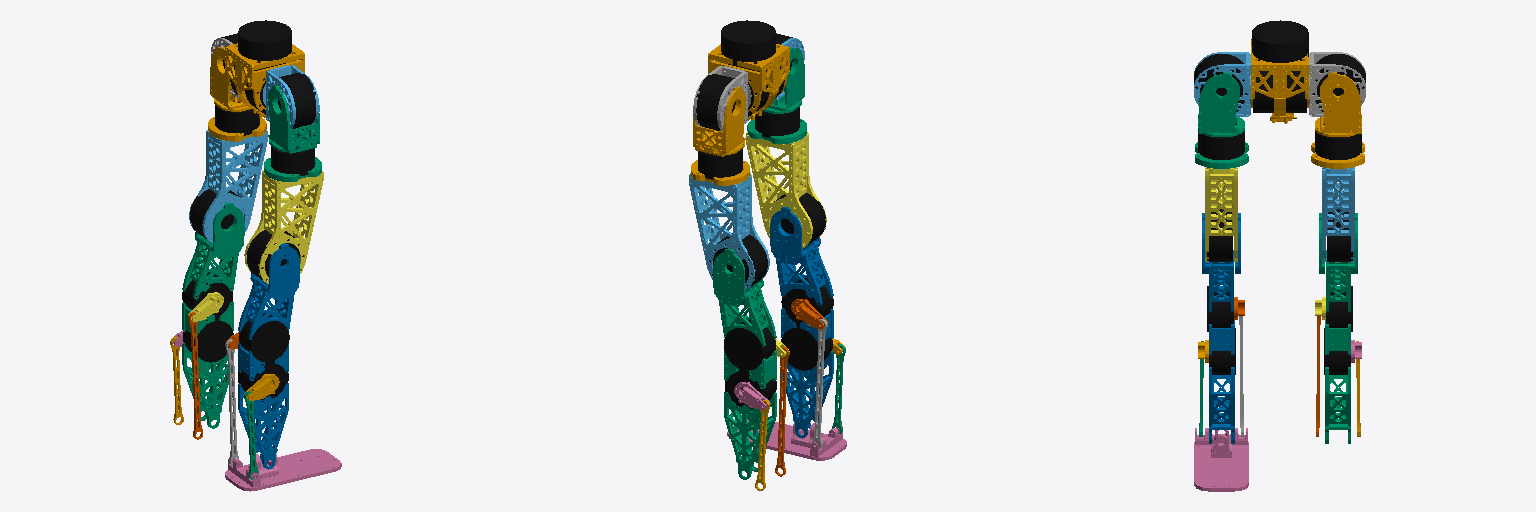
robot.urdf — LegOnly_prototype-tempmass-motormeasured-armfix_v30_proxyfix_loo:
<?xml version='1.0' encoding='utf-8'?>
<robot name="LegOnly_prototype-tempmass-motormeasured-armfix_v30_proxyfix_loop">
  <link name="base_link">
    <visual>
      <geometry>
        <mesh filename="package://huphy_ros/meshes/pelvis.stl" />
      </geometry>
    </visual>
    <visual name="R_hip_pitch_motor">
      <origin xyz="0.00065 -0.02962 -0.00044" rpy="-1.5708 0 0" />
      <geometry>
        <cylinder radius="0.06" length="0.0556" />
      </geometry>
      <material name="motor_black">
        <color rgba="0.1 0.1 0.1 1" />
      </material>
    </visual>
    <visual name="waist_yaw_motor">
      <origin xyz="0.00053 0.00058 0.09393" rpy="0 0 0" />
      <geometry>
        <cylinder radius="0.06" length="0.0556" />
      </geometry>
      <material name="motor_black">
        <color rgba="0.1 0.1 0.1 1" />
      </material>
    </visual>
    <visual name="L_hip_pitch_motor">
      <origin xyz="0.00065 0.02962 -0.00044" rpy="1.5708 0 0" />
      <geometry>
        <cylinder radius="0.06" length="0.0556" />
      </geometry>
      <material name="motor_black">
        <color rgba="0.1 0.1 0.1 1" />
      </material>
    </visual>
  </link>
  <link name="R_hip_pitch_link">
    <inertial>
      <origin xyz="0.00154376 0.00538733 0.000525268" rpy="0 0 0" />
      <mass value="1.8417" />
      <inertia ixx="0.00411465" ixy="9.91708e-06" ixz="6.31569e-06" iyy="0.00262779" iyz="7.62039e-06" izz="0.00285458" />
    </inertial>
    <visual>
      <geometry>
        <mesh filename="package://huphy_ros/meshes/hip_pitch_link.stl" />
      </geometry>
    </visual>
    <visual name="R_hip_roll_motor">
      <origin xyz="0.00317 0.00061 0.00049" rpy="3.14159 -1.5708 3.14159" />
      <geometry>
        <cylinder radius="0.06" length="0.0556" />
      </geometry>
      <material name="motor_black">
        <color rgba="0.1 0.1 0.1 1" />
      </material>
    </visual>
  </link>
  <link name="R_hip_roll_link">
    <inertial>
      <origin xyz="0.000912268 -0.00135613 -0.121662" rpy="0 0 0" />
      <mass value="1.373" />
      <inertia ixx="0.00340192" ixy="-2.6909e-06" ixz="-0.000151014" iyy="0.00347541" iyz="9.2076e-05" izz="0.002068" />
    </inertial>
    <visual>
      <geometry>
        <mesh filename="package://huphy_ros/meshes/hip_roll_link.stl" />
      </geometry>
    </visual>
    <visual name="R_hip_yaw_motor">
      <origin xyz="6e-05 3e-05 -0.13303" rpy="0 0 0" />
      <geometry>
        <cylinder radius="0.0495" length="0.0566" />
      </geometry>
      <material name="motor_black">
        <color rgba="0.1 0.1 0.1 1" />
      </material>
    </visual>
  </link>
  <link name="R_thigh_link">
    <inertial>
      <origin xyz="-0.0367184 -0.00147556 -0.339418" rpy="0 0 0" />
      <mass value="2.1176" />
      <inertia ixx="0.0114407" ixy="-8.34427e-06" ixz="-0.00210864" iyy="0.0135125" iyz="-7.39365e-05" izz="0.00382553" />
    </inertial>
    <visual>
      <geometry>
        <mesh filename="package://huphy_ros/meshes/thigh.stl" />
      </geometry>
    </visual>
    <visual name="R_knee_motor">
      <origin xyz="-0.04495 -0.00318 -0.36922" rpy="-1.5708 0 0" />
      <geometry>
        <cylinder radius="0.06" length="0.0556" />
      </geometry>
      <material name="motor_black">
        <color rgba="0.1 0.1 0.1 1" />
      </material>
    </visual>
  </link>
  <link name="R_shin_link">
    <inertial>
      <origin xyz="-0.0275899 -0.000127367 -0.232073" rpy="0 0 0" />
      <mass value="2.7018" />
      <inertia ixx="0.0211235" ixy="1.81622e-05" ixz="-0.00113853" iyy="0.0221923" iyz="0.000144791" izz="0.00343319" />
    </inertial>
    <visual>
      <geometry>
        <mesh filename="package://huphy_ros/meshes/shin_noloop.stl" />
      </geometry>
    </visual>
    <visual name="R_ankle_b_motor">
      <origin xyz="-0.02994 -0.00172 -0.19003" rpy="-1.5708 0 0" />
      <geometry>
        <cylinder radius="0.0495" length="0.0566" />
      </geometry>
      <material name="motor_black">
        <color rgba="0.1 0.1 0.1 1" />
      </material>
    </visual>
    <visual name="R_ankle_a_motor">
      <origin xyz="-0.03006 0.00172 -0.29003" rpy="-1.5708 0 0" />
      <geometry>
        <cylinder radius="0.0495" length="0.0566" />
      </geometry>
      <material name="motor_black">
        <color rgba="0.1 0.1 0.1 1" />
      </material>
    </visual>
  </link>
  <link name="R_ankle_pitch_link">
    <inertial>
      <origin xyz="0 1.42109e-17 0" rpy="0 0 0" />
      <mass value="0.040016" />
      <inertia ixx="1.43238e-05" ixy="-2.21684e-10" ixz="-1.31465e-09" iyy="3.69795e-06" iyz="-1.14375e-09" izz="1.42313e-05" />
    </inertial>
  </link>
  <link name="R_foot_link">
    <inertial>
      <origin xyz="0.0326641 4.26326e-17 -0.0312039" rpy="0 0 0" />
      <mass value="0.84518" />
      <inertia ixx="0.00109062" ixy="1.60551e-07" ixz="0.000280046" iyy="0.00456268" iyz="7.88778e-07" izz="0.00503462" />
    </inertial>
    <visual>
      <geometry>
        <mesh filename="package://huphy_ros/meshes/foot_noloop.stl" />
      </geometry>
    </visual>
  </link>
  <link name="L_hip_pitch_link">
    <inertial>
      <origin xyz="0.00154376 -0.00538733 0.000525268" rpy="0 0 0" />
      <mass value="1.8417" />
      <inertia ixx="0.00411465" ixy="-9.91708e-06" ixz="6.31569e-06" iyy="0.00262779" iyz="-7.62039e-06" izz="0.00285458" />
    </inertial>
    <visual>
      <geometry>
        <mesh filename="package://huphy_ros/meshes/R_hip_pitch_link.stl" />
      </geometry>
    </visual>
    <visual name="L_hip_roll_motor">
      <origin xyz="0.00317 -0.00061 0.00049" rpy="3.14159 -1.5708 3.14159" />
      <geometry>
        <cylinder radius="0.06" length="0.0556" />
      </geometry>
      <material name="motor_black">
        <color rgba="0.1 0.1 0.1 1" />
      </material>
    </visual>
  </link>
  <link name="L_hip_roll_link">
    <inertial>
      <origin xyz="0.000912268 0.00135613 -0.121662" rpy="0 0 0" />
      <mass value="1.373" />
      <inertia ixx="0.00340192" ixy="2.6909e-06" ixz="-0.000151014" iyy="0.00347541" iyz="-9.2076e-05" izz="0.002068" />
    </inertial>
    <visual>
      <geometry>
        <mesh filename="package://huphy_ros/meshes/R_hip_roll_link.stl" />
      </geometry>
    </visual>
    <visual name="L_hip_yaw_motor">
      <origin xyz="6e-05 -3e-05 -0.13303" rpy="0 0 0" />
      <geometry>
        <cylinder radius="0.0495" length="0.0566" />
      </geometry>
      <material name="motor_black">
        <color rgba="0.1 0.1 0.1 1" />
      </material>
    </visual>
  </link>
  <link name="L_thigh_link">
    <inertial>
      <origin xyz="-0.0367184 0.00147556 -0.339418" rpy="0 0 0" />
      <mass value="2.1176" />
      <inertia ixx="0.0114407" ixy="8.34427e-06" ixz="-0.00210864" iyy="0.0135125" iyz="7.39365e-05" izz="0.00382553" />
    </inertial>
    <visual>
      <geometry>
        <mesh filename="package://huphy_ros/meshes/R_thigh.stl" />
      </geometry>
    </visual>
    <visual name="L_knee_motor">
      <origin xyz="-0.04495 0.00318 -0.36922" rpy="1.5708 0 0" />
      <geometry>
        <cylinder radius="0.06" length="0.0556" />
      </geometry>
      <material name="motor_black">
        <color rgba="0.1 0.1 0.1 1" />
      </material>
    </visual>
  </link>
  <link name="L_shin_link">
    <inertial>
      <origin xyz="-0.0275899 0.000127367 -0.232073" rpy="0 0 0" />
      <mass value="2.7018" />
      <inertia ixx="0.0211235" ixy="-1.81622e-05" ixz="-0.00113853" iyy="0.0221923" iyz="-0.000144791" izz="0.00343319" />
    </inertial>
    <visual>
      <geometry>
        <mesh filename="package://huphy_ros/meshes/R_shin_noloop.stl" />
      </geometry>
    </visual>
    <visual name="L_ankle_b_motor">
      <origin xyz="-0.02994 0.00172 -0.19003" rpy="1.5708 0 0" />
      <geometry>
        <cylinder radius="0.0495" length="0.0566" />
      </geometry>
      <material name="motor_black">
        <color rgba="0.1 0.1 0.1 1" />
      </material>
    </visual>
    <visual name="L_ankle_a_motor">
      <origin xyz="-0.03006 -0.00172 -0.29003" rpy="1.5708 0 0" />
      <geometry>
        <cylinder radius="0.0495" length="0.0566" />
      </geometry>
      <material name="motor_black">
        <color rgba="0.1 0.1 0.1 1" />
      </material>
    </visual>
  </link>
  <link name="L_ankle_pitch_link">
    <inertial>
      <origin xyz="0 -1.42109e-17 0" rpy="0 0 0" />
      <mass value="0.040016" />
      <inertia ixx="1.43238e-05" ixy="2.21684e-10" ixz="-1.31465e-09" iyy="3.69795e-06" iyz="1.14375e-09" izz="1.42313e-05" />
    </inertial>
  </link>
  <link name="L_foot_link">
    <inertial>
      <origin xyz="0.0326641 -4.26326e-17 -0.0312039" rpy="0 0 0" />
      <mass value="0.84518" />
      <inertia ixx="0.00109062" ixy="-1.60551e-07" ixz="0.000280046" iyy="0.00456268" iyz="-7.88778e-07" izz="0.00503462" />
    </inertial>
    <visual>
      <geometry>
        <mesh filename="package://huphy_ros/meshes/R_foot_noloop.stl" />
      </geometry>
    </visual>
  </link>
  <joint name="right_leg__hip_pitch" type="revolute">
    <origin xyz="0 -0.1237 0" rpy="0 0 0" />
    <parent link="base_link" />
    <child link="R_hip_pitch_link" />
    <axis xyz="0 1 0" />
    <limit lower="-2.0943951023931953" upper="0.4363323129985824" effort="120" velocity="20" />
    <dynamics damping="0.0275" friction="0.519" />
  </joint>
  <joint name="right_leg__hip_roll" type="revolute">
    <origin xyz="0 0 0" rpy="0 0 0" />
    <parent link="R_hip_pitch_link" />
    <child link="R_hip_roll_link" />
    <axis xyz="-1 0 0" />
    <limit lower="-0.4363323129985824" upper="1.4835298641951802" effort="120" velocity="20" />
    <dynamics damping="0.0275" friction="0.519" />
  </joint>
  <joint name="right_leg__hip_yaw" type="revolute">
    <origin xyz="0 0 0" rpy="0 0 0" />
    <parent link="R_hip_roll_link" />
    <child link="R_thigh_link" />
    <axis xyz="0 0 1" />
    <limit lower="-0.7853981633974483" upper="0.7853981633974483" effort="60" velocity="20" />
    <dynamics damping="0.0252" friction="0.251" />
  </joint>
  <joint name="right_leg__knee" type="revolute">
    <origin xyz="-0.045 0 -0.37" rpy="0 0 0" />
    <parent link="R_thigh_link" />
    <child link="R_shin_link" />
    <axis xyz="0 1 0" />
    <limit lower="0.0" upper="2.0943951023931953" effort="120" velocity="20" />
    <dynamics damping="0.0275" friction="0.519" />
  </joint>
  <joint name="right_leg__ankle_pitch" type="revolute">
    <origin xyz="-0.03 0 -0.49" rpy="0 0 0" />
    <parent link="R_shin_link" />
    <child link="R_ankle_pitch_link" />
    <axis xyz="0 -1 0" />
    <limit lower="-0.8726646259971648" upper="0.5235987755982988" effort="90" velocity="20" />
  </joint>
  <joint name="right_leg__ankle_roll" type="revolute">
    <origin xyz="0 0 0" rpy="0 0 0" />
    <parent link="R_ankle_pitch_link" />
    <child link="R_foot_link" />
    <axis xyz="-1 0 0" />
    <limit lower="-0.3490658503988659" upper="0.3490658503988659" effort="50" velocity="20" />
  </joint>
  <joint name="left_leg__hip_pitch" type="revolute">
    <origin xyz="0 0.1237 0" rpy="0 0 0" />
    <parent link="base_link" />
    <child link="L_hip_pitch_link" />
    <axis xyz="0 -1 0" />
    <limit lower="-0.4363323129985824" upper="2.0943951023931953" effort="120" velocity="20" />
    <dynamics damping="0.0275" friction="0.519" />
  </joint>
  <joint name="left_leg__hip_roll" type="revolute">
    <origin xyz="0 0 0" rpy="0 0 0" />
    <parent link="L_hip_pitch_link" />
    <child link="L_hip_roll_link" />
    <axis xyz="-1 0 0" />
    <limit lower="-1.4835298641951802" upper="0.4363323129985824" effort="120" velocity="20" />
    <dynamics damping="0.0275" friction="0.519" />
  </joint>
  <joint name="left_leg__hip_yaw" type="revolute">
    <origin xyz="0 0 0" rpy="0 0 0" />
    <parent link="L_hip_roll_link" />
    <child link="L_thigh_link" />
    <axis xyz="0 0 1" />
    <limit lower="-0.7853981633974483" upper="0.7853981633974483" effort="60" velocity="20" />
    <dynamics damping="0.0252" friction="0.251" />
  </joint>
  <joint name="left_leg__knee" type="revolute">
    <origin xyz="-0.045 0 -0.37" rpy="0 0 0" />
    <parent link="L_thigh_link" />
    <child link="L_shin_link" />
    <axis xyz="0 -1 0" />
    <limit lower="-2.0943951023931953" upper="0.0" effort="120" velocity="20" />
    <dynamics damping="0.0275" friction="0.519" />
  </joint>
  <joint name="left_leg__ankle_pitch" type="revolute">
    <origin xyz="-0.03 0 -0.49" rpy="0 0 0" />
    <parent link="L_shin_link" />
    <child link="L_ankle_pitch_link" />
    <axis xyz="0 -1 0" />
    <limit lower="-0.8726646259971648" upper="0.5235987755982988" effort="90" velocity="20" />
  </joint>
  <joint name="left_leg__ankle_roll" type="revolute">
    <origin xyz="0 0 0" rpy="0 0 0" />
    <parent link="L_ankle_pitch_link" />
    <child link="L_foot_link" />
    <axis xyz="1 0 0" />
    <limit lower="-0.3490658503988659" upper="0.3490658503988659" effort="50" velocity="20" />
  </joint>
  <link name="R_crank_A">
    <inertial>
      <origin xyz="-0.0198018 0.0360067 -0.0062147" rpy="0 0 0" />
      <mass value="0.034678" />
      <inertia ixx="7.59307e-06" ixy="1.99617e-06" ixz="-3.64097e-06" iyy="1.97976e-05" iyz="6.55228e-07" izz="1.66148e-05" />
    </inertial>
    <visual>
      <geometry>
        <mesh filename="package://huphy_ros/meshes/crank_A.stl" />
      </geometry>
    </visual>
  </link>
  <link name="R_rod_A_u">
    <inertial>
      <origin xyz="0 0 0" rpy="0 0 0" />
      <mass value="0.001" />
      <inertia ixx="1e-07" ixy="0" ixz="0" iyy="1e-07" iyz="0" izz="1e-07" />
    </inertial>
  </link>
  <link name="R_rod_A">
    <inertial>
      <origin xyz="0.00548356 0.00130335 -0.144762" rpy="0 0 0" />
      <mass value="0.080611" />
      <inertia ixx="0.00100139" ixy="-3.27114e-07" ixz="3.79761e-05" iyy="0.00100427" iyz="9.05816e-06" izz="3.7271e-06" />
    </inertial>
    <visual>
      <geometry>
        <mesh filename="package://huphy_ros/meshes/rod_A.stl" />
      </geometry>
    </visual>
  </link>
  <link name="R_crank_B">
    <inertial>
      <origin xyz="-0.0191695 -0.0360218 -0.00484967" rpy="0 0 0" />
      <mass value="0.033884" />
      <inertia ixx="6.87121e-06" ixy="-1.92757e-06" ixz="-2.43116e-06" iyy="1.8195e-05" iyz="-4.59121e-07" izz="1.5733e-05" />
    </inertial>
    <visual>
      <geometry>
        <mesh filename="package://huphy_ros/meshes/crank_B.stl" />
      </geometry>
    </visual>
  </link>
  <link name="R_rod_B_u">
    <inertial>
      <origin xyz="0 0 0" rpy="0 0 0" />
      <mass value="0.001" />
      <inertia ixx="1e-07" ixy="0" ixz="0" iyy="1e-07" iyz="0" izz="1e-07" />
    </inertial>
  </link>
  <link name="R_rod_B">
    <inertial>
      <origin xyz="0.00482552 -0.00130776 -0.0979551" rpy="0 0 0" />
      <mass value="0.067401" />
      <inertia ixx="0.000417838" ixy="3.10384e-07" ixz="2.06779e-05" iyy="0.000420171" iyz="-5.43715e-06" izz="3.00405e-06" />
    </inertial>
    <visual>
      <geometry>
        <mesh filename="package://huphy_ros/meshes/rod_B.stl" />
      </geometry>
    </visual>
  </link>
  <joint name="right_leg__ankle_a" type="revolute">
    <origin xyz="-0.029945 -0.001718 -0.190034" rpy="0 0 0" />
    <parent link="R_shin_link" />
    <child link="R_crank_A" />
    <axis xyz="-0.0000 -1.0000 -0.0000" />
    <limit lower="-1.2" upper="1.2" effort="60.0" velocity="20" />
    <dynamics damping="0.0252" friction="0.251" />
  </joint>
  <joint name="R_rod_A_u1" type="revolute">
    <origin xyz="-0.061494 0.042718 -0.021185" rpy="0 0 0" />
    <parent link="R_crank_A" />
    <child link="R_rod_A_u" />
    <axis xyz="-0.0000 -1.0000 -0.0000" />
    <limit lower="-3.1416" upper="3.1416" effort="0" velocity="50" />
  </joint>
  <joint name="R_rod_A_u2" type="revolute">
    <origin xyz="0 0 0" rpy="0 0 0" />
    <parent link="R_rod_A_u" />
    <child link="R_rod_A" />
    <axis xyz="0.9993 -0.0000 0.0379" />
    <limit lower="-3.1416" upper="3.1416" effort="0" velocity="50" />
  </joint>
  <joint name="right_leg__ankle_b" type="revolute">
    <origin xyz="-0.030055 0.001717 -0.290034" rpy="0 0 0" />
    <parent link="R_shin_link" />
    <child link="R_crank_B" />
    <axis xyz="0.0000 1.0000 0.0000" />
    <limit lower="-1.2" upper="1.2" effort="60.0" velocity="20" />
    <dynamics damping="0.0252" friction="0.251" />
  </joint>
  <joint name="R_rod_B_u1" type="revolute">
    <origin xyz="-0.060039 -0.042717 -0.01522" rpy="0 0 0" />
    <parent link="R_crank_B" />
    <child link="R_rod_B_u" />
    <axis xyz="0.0000 1.0000 0.0000" />
    <limit lower="-3.1416" upper="3.1416" effort="0" velocity="50" />
  </joint>
  <joint name="R_rod_B_u2" type="revolute">
    <origin xyz="0 0 0" rpy="0 0 0" />
    <parent link="R_rod_B_u" />
    <child link="R_rod_B" />
    <axis xyz="-0.9988 0.0000 -0.0492" />
    <limit lower="-3.1416" upper="3.1416" effort="0" velocity="50" />
  </joint>
  <link name="L_crank_A">
    <inertial>
      <origin xyz="-0.0198018 -0.0360067 -0.0062147" rpy="0 0 0" />
      <mass value="0.034678" />
      <inertia ixx="7.59307e-06" ixy="-1.99617e-06" ixz="-3.64097e-06" iyy="1.97976e-05" iyz="-6.55228e-07" izz="1.66148e-05" />
    </inertial>
    <visual>
      <geometry>
        <mesh filename="package://huphy_ros/meshes/R_crank_A.stl" />
      </geometry>
    </visual>
  </link>
  <link name="L_rod_A_u">
    <inertial>
      <origin xyz="0 0 0" rpy="0 0 0" />
      <mass value="0.001" />
      <inertia ixx="1e-07" ixy="0" ixz="0" iyy="1e-07" iyz="0" izz="1e-07" />
    </inertial>
  </link>
  <link name="L_rod_A">
    <inertial>
      <origin xyz="0.00548356 -0.00130335 -0.144762" rpy="0 0 0" />
      <mass value="0.080611" />
      <inertia ixx="0.00100139" ixy="3.27114e-07" ixz="3.79761e-05" iyy="0.00100427" iyz="-9.05816e-06" izz="3.7271e-06" />
    </inertial>
    <visual>
      <geometry>
        <mesh filename="package://huphy_ros/meshes/R_rod_A.stl" />
      </geometry>
    </visual>
  </link>
  <link name="L_crank_B">
    <inertial>
      <origin xyz="-0.0191695 0.0360218 -0.00484967" rpy="0 0 0" />
      <mass value="0.033884" />
      <inertia ixx="6.87121e-06" ixy="1.92757e-06" ixz="-2.43116e-06" iyy="1.8195e-05" iyz="4.59121e-07" izz="1.5733e-05" />
    </inertial>
    <visual>
      <geometry>
        <mesh filename="package://huphy_ros/meshes/R_crank_B.stl" />
      </geometry>
    </visual>
  </link>
  <link name="L_rod_B_u">
    <inertial>
      <origin xyz="0 0 0" rpy="0 0 0" />
      <mass value="0.001" />
      <inertia ixx="1e-07" ixy="0" ixz="0" iyy="1e-07" iyz="0" izz="1e-07" />
    </inertial>
  </link>
  <link name="L_rod_B">
    <inertial>
      <origin xyz="0.00482552 0.00130776 -0.0979551" rpy="0 0 0" />
      <mass value="0.067401" />
      <inertia ixx="0.000417838" ixy="-3.10384e-07" ixz="2.06779e-05" iyy="0.000420171" iyz="5.43715e-06" izz="3.00405e-06" />
    </inertial>
    <visual>
      <geometry>
        <mesh filename="package://huphy_ros/meshes/R_rod_B.stl" />
      </geometry>
    </visual>
  </link>
  <joint name="left_leg__ankle_a" type="revolute">
    <origin xyz="-0.029945 0.001718 -0.190034" rpy="0 0 0" />
    <parent link="L_shin_link" />
    <child link="L_crank_A" />
    <axis xyz="0.0000 1.0000 0.0000" />
    <limit lower="-1.2" upper="1.2" effort="60.0" velocity="20" />
    <dynamics damping="0.0252" friction="0.251" />
  </joint>
  <joint name="L_rod_A_u1" type="revolute">
    <origin xyz="-0.061494 -0.042718 -0.021185" rpy="0 0 0" />
    <parent link="L_crank_A" />
    <child link="L_rod_A_u" />
    <axis xyz="0.0000 1.0000 0.0000" />
    <limit lower="-3.1416" upper="3.1416" effort="0" velocity="50" />
  </joint>
  <joint name="L_rod_A_u2" type="revolute">
    <origin xyz="0 0 0" rpy="0 0 0" />
    <parent link="L_rod_A_u" />
    <child link="L_rod_A" />
    <axis xyz="-0.9993 0.0000 -0.0379" />
    <limit lower="-3.1416" upper="3.1416" effort="0" velocity="50" />
  </joint>
  <joint name="left_leg__ankle_b" type="revolute">
    <origin xyz="-0.030055 -0.001717 -0.290034" rpy="0 0 0" />
    <parent link="L_shin_link" />
    <child link="L_crank_B" />
    <axis xyz="-0.0000 -1.0000 -0.0000" />
    <limit lower="-1.2" upper="1.2" effort="60.0" velocity="20" />
    <dynamics damping="0.0252" friction="0.251" />
  </joint>
  <joint name="L_rod_B_u1" type="revolute">
    <origin xyz="-0.060039 0.042717 -0.01522" rpy="0 0 0" />
    <parent link="L_crank_B" />
    <child link="L_rod_B_u" />
    <axis xyz="-0.0000 -1.0000 -0.0000" />
    <limit lower="-3.1416" upper="3.1416" effort="0" velocity="50" />
  </joint>
  <joint name="L_rod_B_u2" type="revolute">
    <origin xyz="0 0 0" rpy="0 0 0" />
    <parent link="L_rod_B_u" />
    <child link="L_rod_B" />
    <axis xyz="0.9988 -0.0000 0.0492" />
    <limit lower="-3.1416" upper="3.1416" effort="0" velocity="50" />
  </joint>
  <link name="R_rod_A_end" />
  <joint name="R_rod_A_end_site" type="fixed">
    <parent link="R_rod_A" />
    <child link="R_rod_A_end" />
    <origin xyz="0.010939 0.0026 -0.288781" rpy="0 0 0" />
  </joint>
  <link name="R_rod_B_end" />
  <joint name="R_rod_B_end_site" type="fixed">
    <parent link="R_rod_B" />
    <child link="R_rod_B_end" />
    <origin xyz="0.009594 -0.0026 -0.194746" rpy="0 0 0" />
  </joint>
  <link name="R_ball_A" />
  <joint name="R_ball_A_site" type="fixed">
    <parent link="R_foot_link" />
    <child link="R_ball_A" />
    <origin xyz="-0.0505 0.0436 -0.01" rpy="0 0 0" />
  </joint>
  <link name="R_ball_B" />
  <joint name="R_ball_B_site" type="fixed">
    <parent link="R_foot_link" />
    <child link="R_ball_B" />
    <origin xyz="-0.0505 -0.0436 -0.01" rpy="0 0 0" />
  </joint>
  <link name="L_rod_A_end" />
  <joint name="L_rod_A_end_site" type="fixed">
    <parent link="L_rod_A" />
    <child link="L_rod_A_end" />
    <origin xyz="0.010939 -0.0026 -0.288781" rpy="0 0 0" />
  </joint>
  <link name="L_rod_B_end" />
  <joint name="L_rod_B_end_site" type="fixed">
    <parent link="L_rod_B" />
    <child link="L_rod_B_end" />
    <origin xyz="0.009594 0.0026 -0.194746" rpy="0 0 0" />
  </joint>
  <link name="L_ball_A" />
  <joint name="L_ball_A_site" type="fixed">
    <parent link="L_foot_link" />
    <child link="L_ball_A" />
    <origin xyz="-0.0505 -0.0436 -0.01" rpy="0 0 0" />
  </joint>
  <link name="L_ball_B" />
  <joint name="L_ball_B_site" type="fixed">
    <parent link="L_foot_link" />
    <child link="L_ball_B" />
    <origin xyz="-0.0505 0.0436 -0.01" rpy="0 0 0" />
  </joint>
</robot>

--- Render facts (derived) ---
Views: 3 orthographic renders of the robot side by side, from view 1: azimuth 30°, elevation 25°; view 2: azimuth 150°, elevation 25°; view 3: azimuth 270°, elevation 25°.
Robot: LegOnly_prototype-tempmass-motormeasured-armfix_v30_proxyfix_loo — 33 links, 32 joints (24 revolute, 8 fixed); root link base_link; default pose: every joint at zero.
Links seen in each view (by area): view 1: R_shin_link, L_shin_link, L_thigh_link, R_thigh_link, base_link, R_hip_roll_link, R_foot_link, L_hip_roll_link, R_hip_pitch_link, L_rod_A, R_rod_A, L_crank_A (+3 smaller); view 2: L_shin_link, R_shin_link, R_thigh_link, L_thigh_link, base_link, L_hip_roll_link, R_hip_roll_link, L_hip_pitch_link, R_foot_link, L_rod_A, R_rod_A, R_crank_A (+3 smaller); view 3: base_link, R_shin_link, L_shin_link, R_hip_roll_link, L_hip_roll_link, R_foot_link, R_thigh_link, L_thigh_link, R_hip_pitch_link, L_hip_pitch_link.
Link boxes in pixels (x1,y1,x2,y2): R_shin_link: (238, 243, 299, 469); L_shin_link: (182, 203, 244, 428); L_thigh_link: (189, 129, 267, 243); R_thigh_link: (244, 170, 323, 283); base_link: (225, 20, 304, 117); R_hip_roll_link: (264, 85, 321, 181); R_foot_link: (225, 449, 341, 491); L_hip_roll_link: (208, 47, 266, 141); R_hip_pitch_link: (262, 65, 319, 128); L_rod_A: (188, 312, 202, 439); R_rod_A: (225, 339, 238, 465); L_crank_A: (188, 292, 223, 321); L_shin_link: (713, 248, 776, 479); R_shin_link: (770, 207, 833, 438); R_thigh_link: (746, 131, 826, 248); L_thigh_link: (689, 173, 769, 290); base_link: (708, 20, 789, 120); L_hip_roll_link: (691, 87, 749, 185); R_hip_roll_link: (747, 48, 806, 144); L_hip_pitch_link: (693, 66, 751, 131); R_foot_link: (727, 419, 846, 460); L_rod_A: (775, 347, 789, 476); R_rod_A: (812, 319, 827, 448); R_crank_A: (791, 299, 827, 328); base_link: (1251, 20, 1308, 123); R_shin_link: (1202, 213, 1240, 443); L_shin_link: (1319, 213, 1357, 443); R_hip_roll_link: (1195, 72, 1248, 168); L_hip_roll_link: (1311, 72, 1364, 168); R_foot_link: (1194, 428, 1248, 491); R_thigh_link: (1205, 167, 1237, 261); L_thigh_link: (1322, 167, 1354, 261); R_hip_pitch_link: (1194, 52, 1250, 116); L_hip_pitch_link: (1309, 52, 1365, 116).
Size in the robot's own frame: 0.26 by 0.3662 by 1.02 metres.
18 mesh visuals loaded from 19 distinct referenced files (18 binary STL); not drawn: 1 (reference not matched to a file when rendering).
